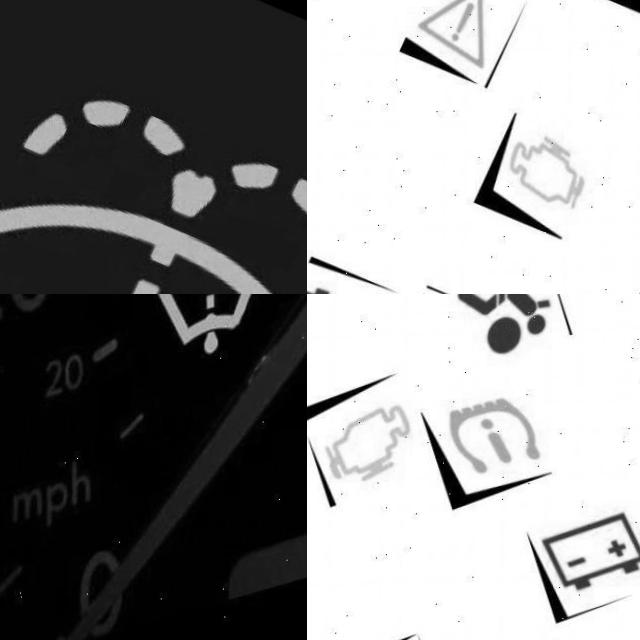Washer Fluid: (0, 93, 307, 294), (153, 294, 270, 359)
